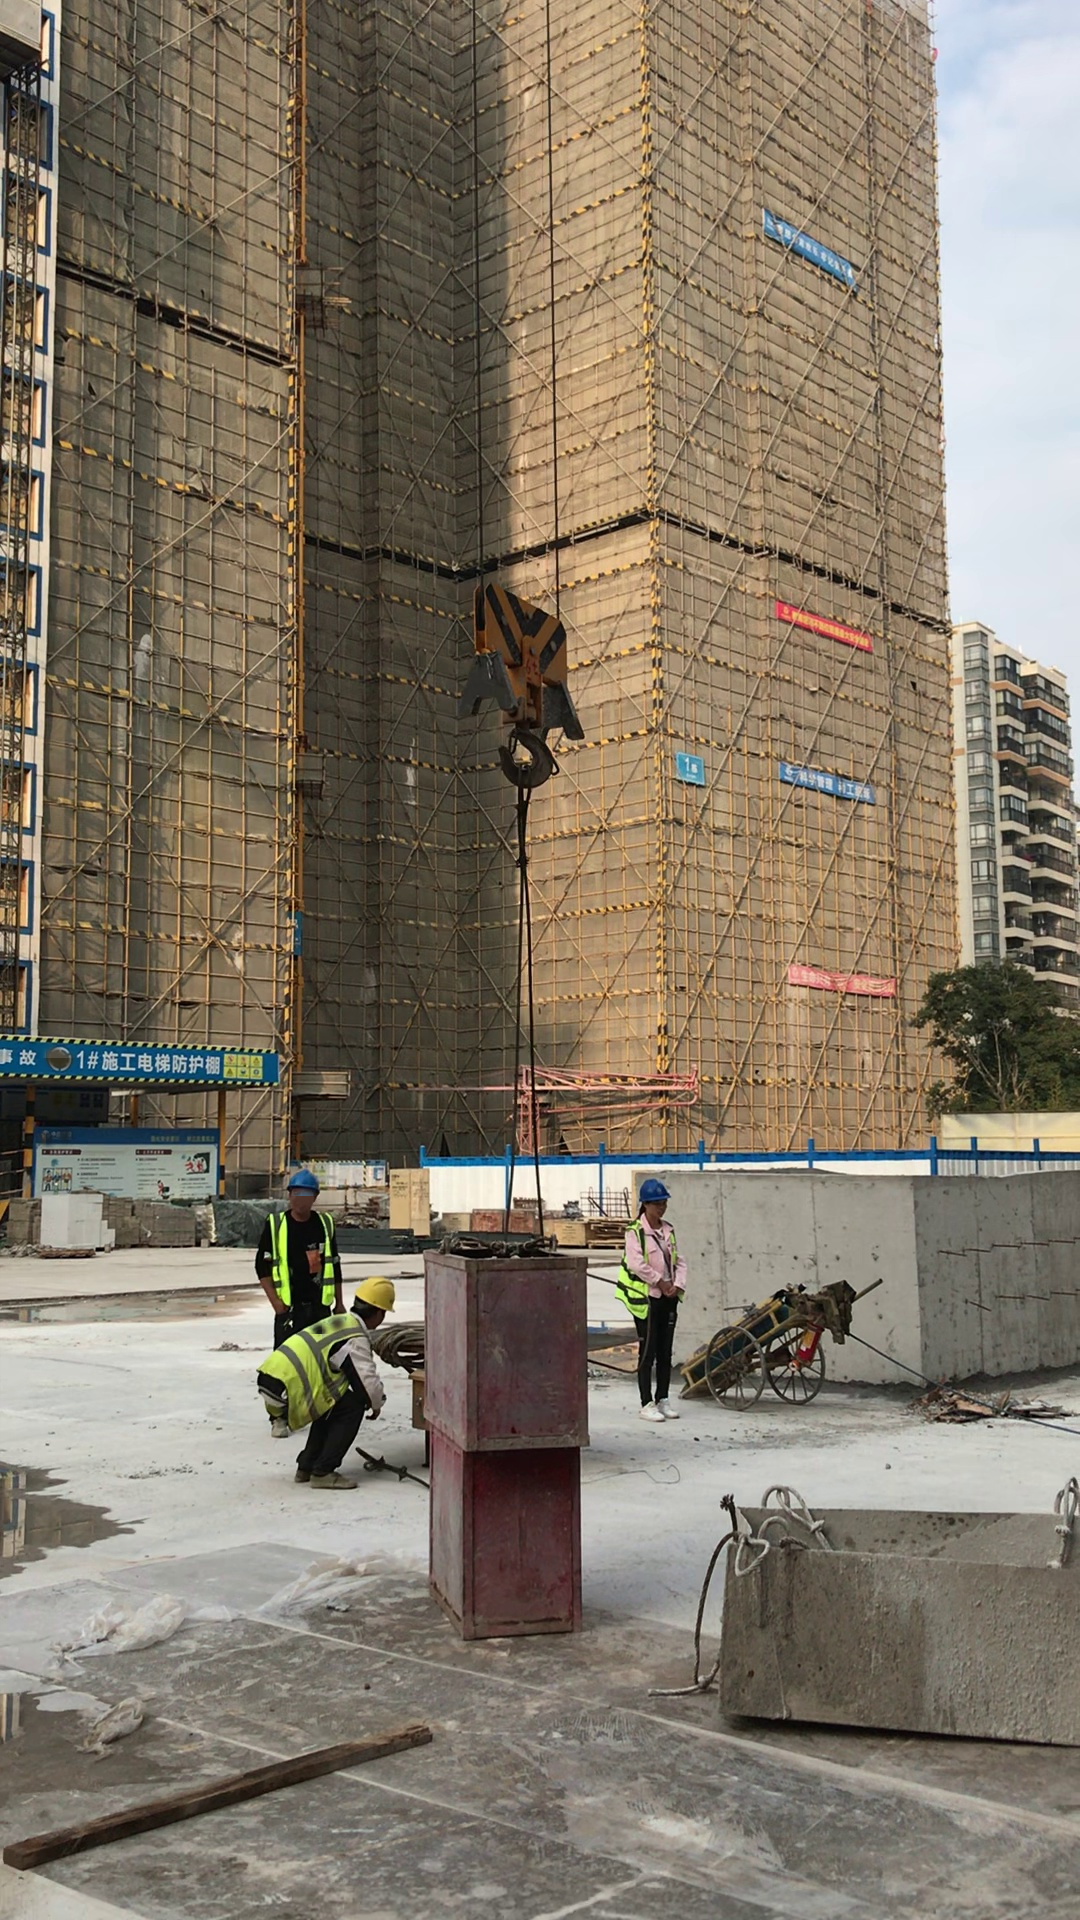brick: (30, 1177, 121, 1256)
ebox: (401, 1376, 428, 1437)
handcart: (671, 1271, 912, 1423)
helmet: (354, 1267, 399, 1312), (637, 1171, 682, 1208), (277, 1162, 323, 1195)
hook: (434, 548, 619, 831)
hopper: (668, 1450, 1080, 1756)
person: (257, 1261, 424, 1506), (609, 1152, 701, 1454), (249, 1134, 357, 1344)
slogan: (4, 1007, 293, 1114), (25, 1122, 238, 1220), (742, 188, 872, 316), (750, 743, 889, 820), (770, 579, 880, 673), (782, 956, 908, 1026), (661, 722, 710, 814)
vest: (254, 1309, 371, 1440), (262, 1205, 351, 1311), (614, 1215, 693, 1322)
wood: (100, 1189, 197, 1249), (7, 1193, 43, 1247)
